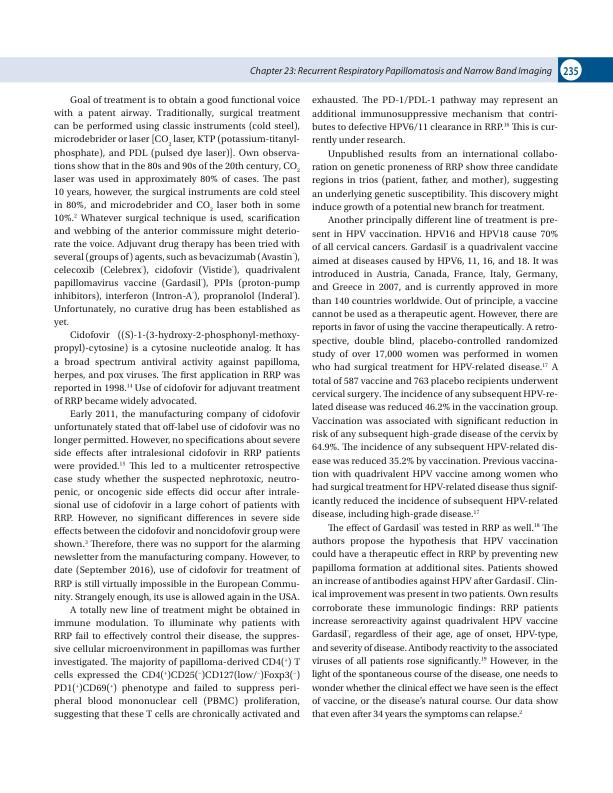header: (249, 65, 552, 78)
text: (310, 94, 560, 722), (53, 94, 301, 721)
